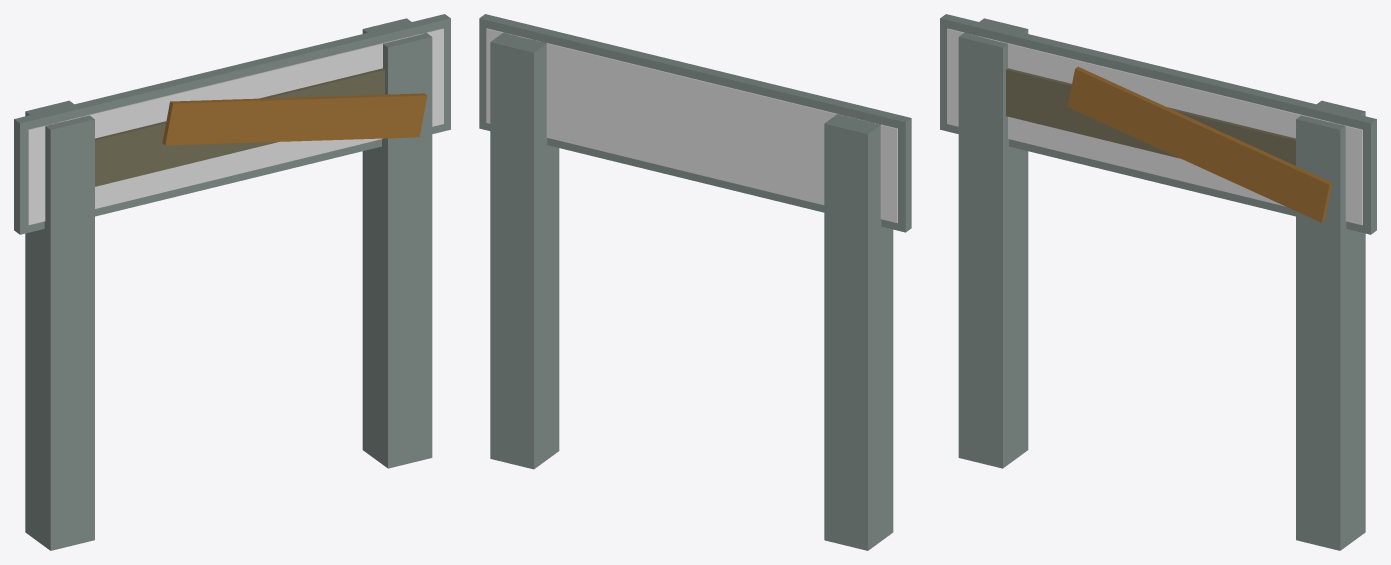
Rendered from SM_CartelEstacion_v4_Tapado_LOD1.fbx.
The picture shows the model from 3 angles, left to right: view 1: azimuth 30°, elevation 25°; view 2: azimuth 150°, elevation 25°; view 3: azimuth 330°, elevation 25°; orthographic projection.
Parts seen in each view (by area): view 1: SM_cartel_estacion_v4_LOD1; view 2: SM_cartel_estacion_v4_LOD1; view 3: SM_cartel_estacion_v4_LOD1.
Part boxes in pixels (x1,y1,x2,y2): SM_cartel_estacion_v4_LOD1: [14, 14, 450, 550]; SM_cartel_estacion_v4_LOD1: [479, 14, 911, 550]; SM_cartel_estacion_v4_LOD1: [940, 14, 1376, 550].
Size of the model in its own units: 3.32 by 3.16 by 0.38.
